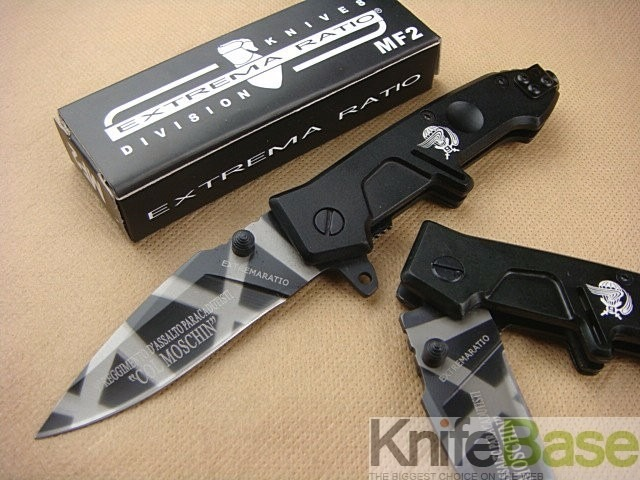knife: (27, 207, 329, 448)
